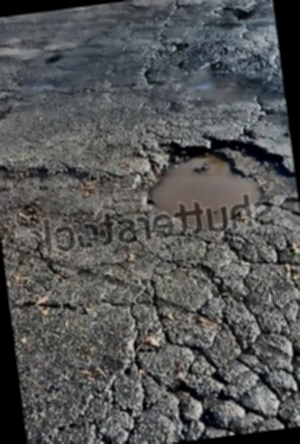pothole: (126, 119, 297, 240), (209, 1, 254, 23)
